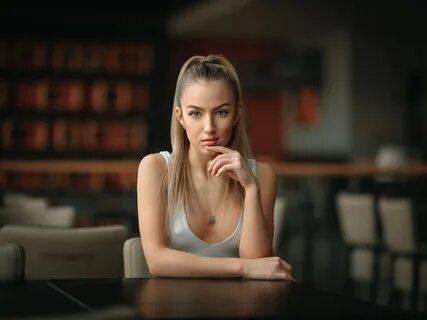awake: (135, 52, 297, 282)
